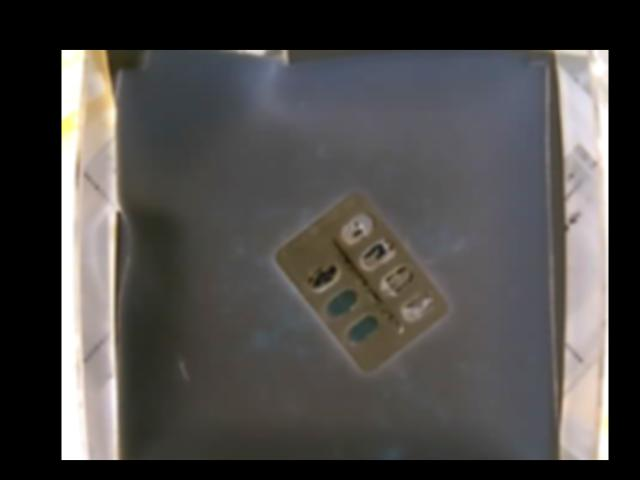Medicine: (273, 182, 446, 373)
